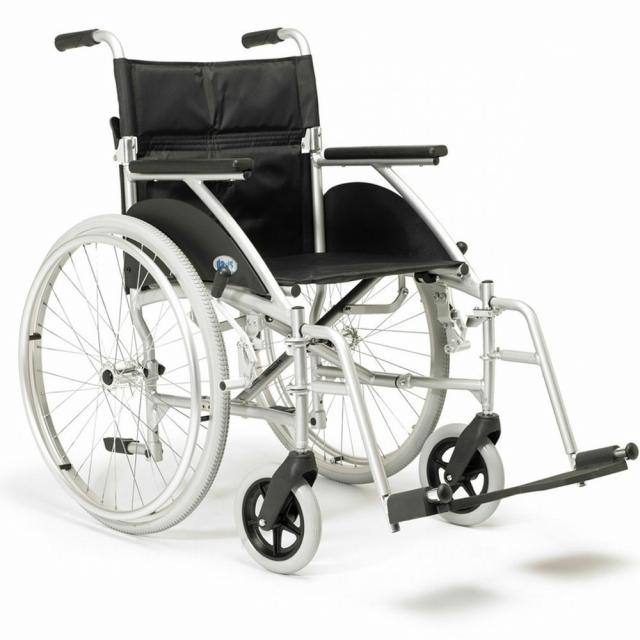wheelchair: (23, 16, 640, 585)
